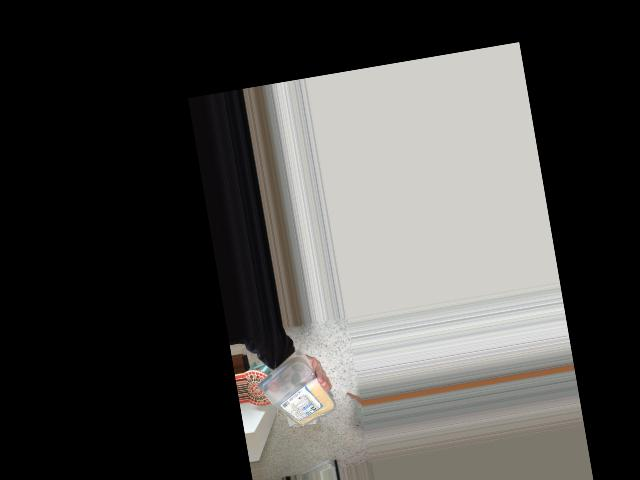cheese: (254, 357, 330, 437)
